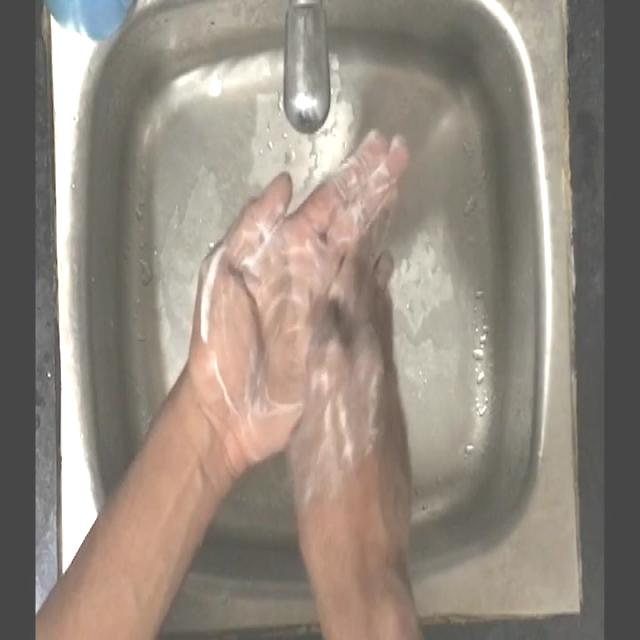step_6: (175, 118, 418, 498)
